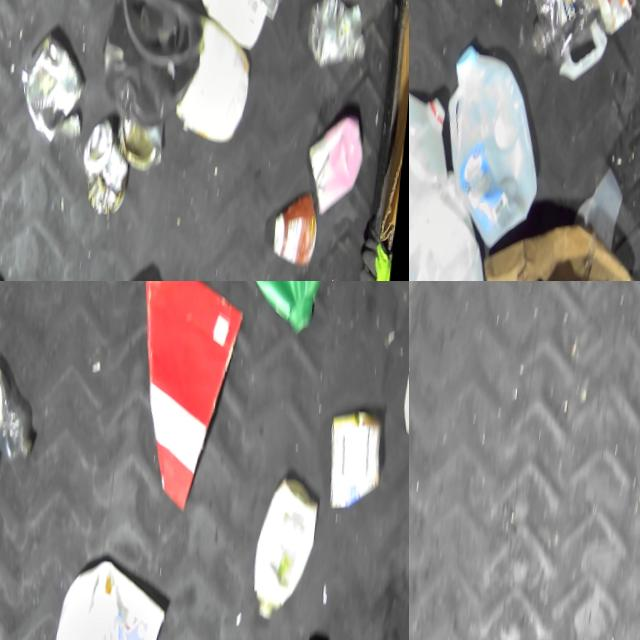can: (21, 29, 93, 142), (327, 400, 394, 508), (309, 103, 372, 209), (84, 111, 140, 211), (120, 110, 173, 168)
milk_jug: (440, 38, 555, 246), (409, 162, 502, 281), (56, 551, 178, 640), (409, 78, 460, 281)
non_white_jug: (100, 0, 212, 121), (527, 0, 640, 80), (211, 281, 342, 334)
plastic_bottle: (0, 340, 48, 463), (308, 0, 374, 62)
